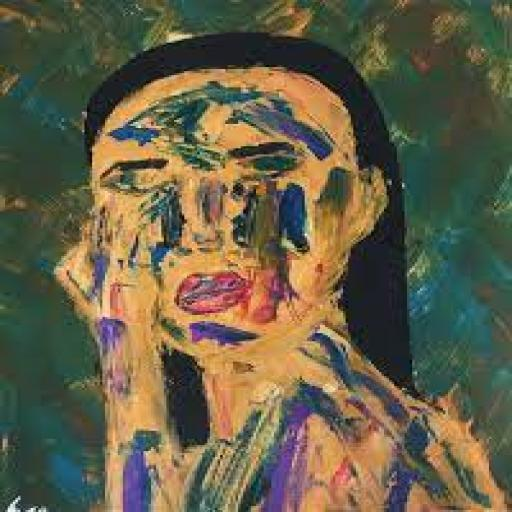person: (51, 28, 495, 508)
